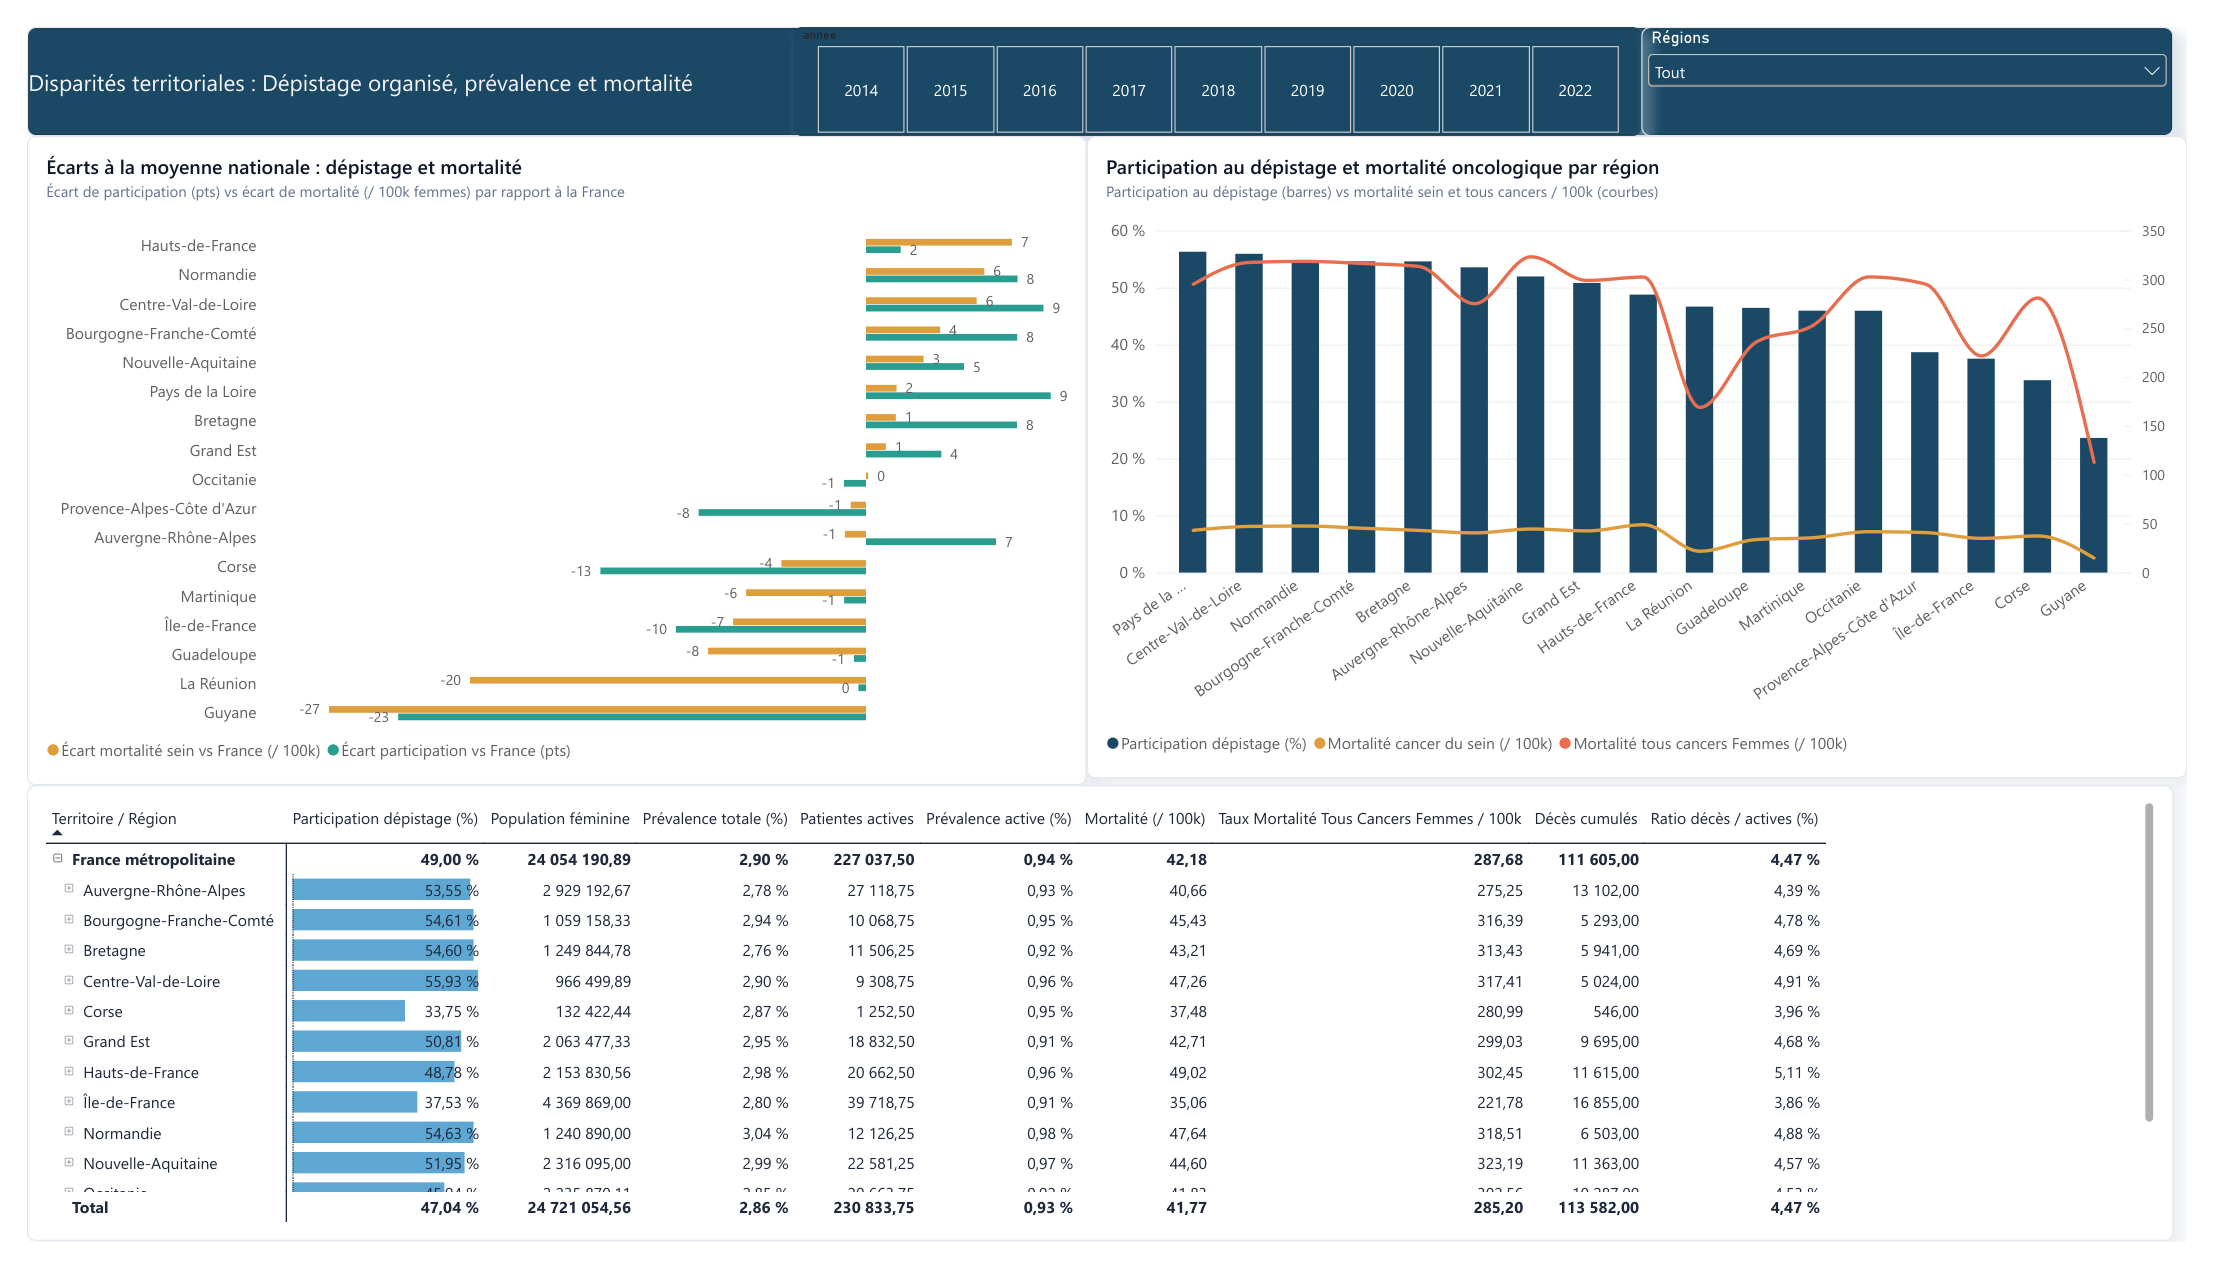

What the dashboard file says about the page in this screenshot:
{"tool":"powerbi","page":{"name":"Synthèse Territoriale & Exploration Détaillée (Dépistage, Prévalence, Mortalité)","canvas":[1920,1080],"ordinal":3},"visuals":[{"type":"shape","box":[0,0,1908.5,97.2],"z":0},{"type":"slicer","fields":{"Values":["DIM_annee.annee"]},"box":[680.5,0,754.7,97.2],"z":1000},{"type":"slicer","fields":{"Values":["DIM_regions.libelle_region"]},"box":[1435.2,0,473.3,97.2],"z":2000},{"type":"clusteredBarChart","title":"Écarts à la moyenne nationale : dépistage et mortalité","fields":{"Category":["DIM_regions.libelle_region"],"Y":["_Mesures.Écart Mortalité vs France (/ 100k)","_Mesures.Écart Participation vs France"]},"box":[0,97,942.1,577.3],"z":3000},{"type":"lineStackedColumnComboChart","title":"Participation au dépistage et mortalité oncologique par région","fields":{"Category":["DIM_regions.libelle_region"],"Y":["_Mesures.Taux Participation Std Région (%)"],"Y2":["_Mesures.Taux Mortalité Sein (/ 100k)","_Mesures.Taux Mortalité Tous Cancers Femmes / 100k"]},"box":[942.1,97,977.9,571.5],"z":4000},{"type":"pivotTable","fields":{"Rows":["DIM_regions.zone_geographique","DIM_regions.libelle_region","dim_tranches_age.groupe_depistage","dim_tranches_age.libelle_tranche_age_5"],"Values":["_Mesures.Taux Participation Std Région (%)","_Mesures.Population Féminine (Age)","_Mesures.Taux Prévalence Totale (%)","_Mesures.Patientes Actives Sein","_Mesures.Taux Prévalence Active (%)","_Mesures.Taux Mortalité Sein (/ 100k)","_Mesures.Taux Mortalité Tous Cancers Femmes / 100k","_Mesures.Décès Sein","_Mesures.Ratio Décès / Patientes Actives (%)"]},"box":[0,674.3,1908.5,405.2],"z":5000}]}

Visuals, with their boxes in screenshot pixels (x1, y1, x2, y2), scaled from the page's 1920x1080 canvas onto the 2214x1269 screenshot:
shape: detection(0, 0, 2201, 114)
slicer - DIM_annee.annee: detection(785, 0, 1655, 114)
slicer - DIM_regions.libelle_region: detection(1655, 0, 2201, 114)
"Écarts à la moyenne nationale : dépistage et mortalité" clusteredBarChart: detection(0, 114, 1086, 792)
"Participation au dépistage et mortalité oncologique par région" lineStackedColumnComboChart: detection(1086, 114, 2213, 785)
pivotTable - DIM_regions.zone_geographique x DIM_regions.libelle_region: detection(0, 792, 2201, 1268)
